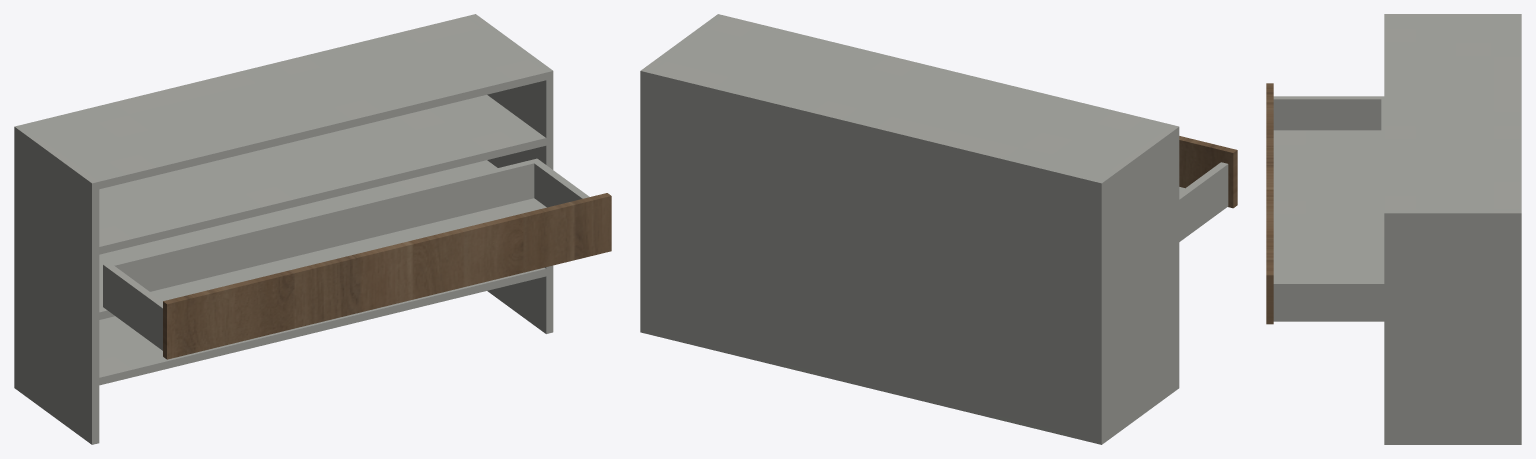
Rendered from meuble_68f87194de2c1.glb.
3 renders of one model, left to right at view 1: azimuth 30°, elevation 25°; view 2: azimuth 150°, elevation 25°; view 3: azimuth 270°, elevation 25°, orthographic. The views are drawn at different scales.
Visible parts, largest first — view 1: world; view 2: world; view 3: world.
Part boxes in pixels (<box>): world: <box>14,14,611,444</box>; world: <box>640,14,1237,444</box>; world: <box>1266,14,1521,444</box>.
Size of the model in its own units: 1.2 by 0.65 by 0.65.
1 material, 1 textured.
